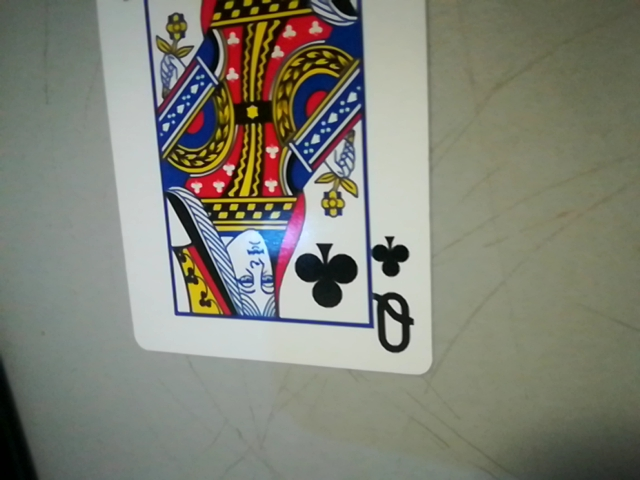mh q: (363, 227, 425, 366)
